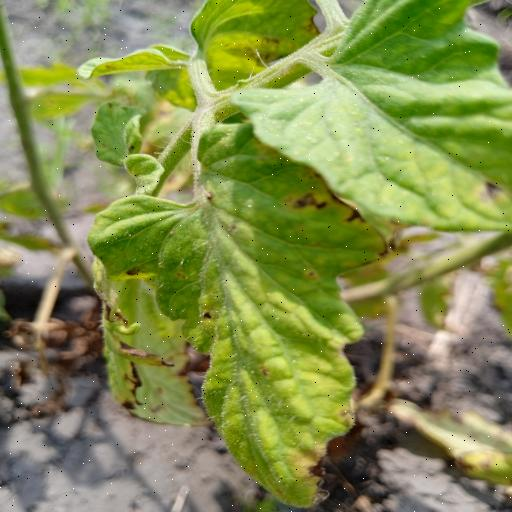Tomato_Brown_Spots: (81, 116, 403, 511), (227, 0, 512, 239)
